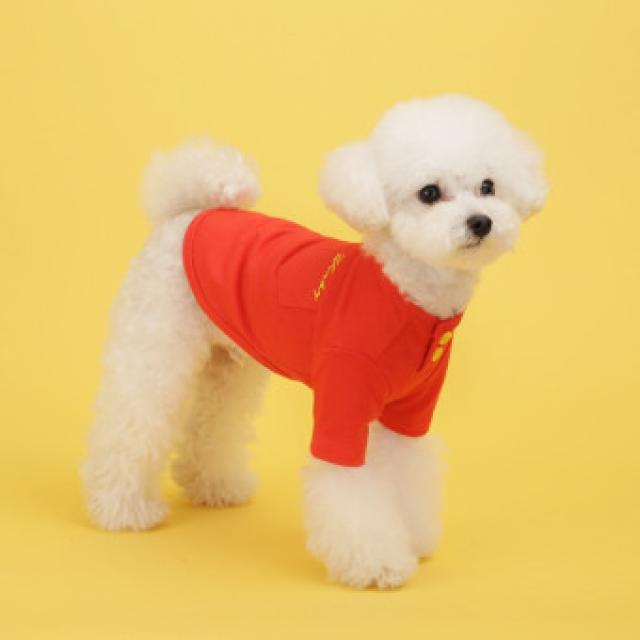cloth: (184, 210, 461, 465)
